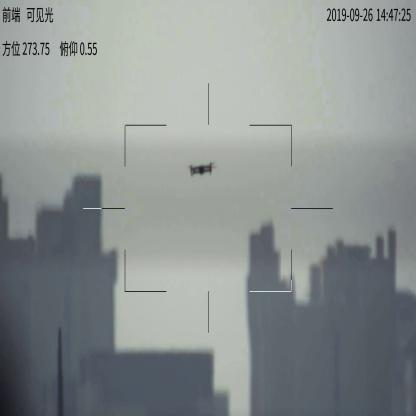uav: (187, 159, 217, 178)
